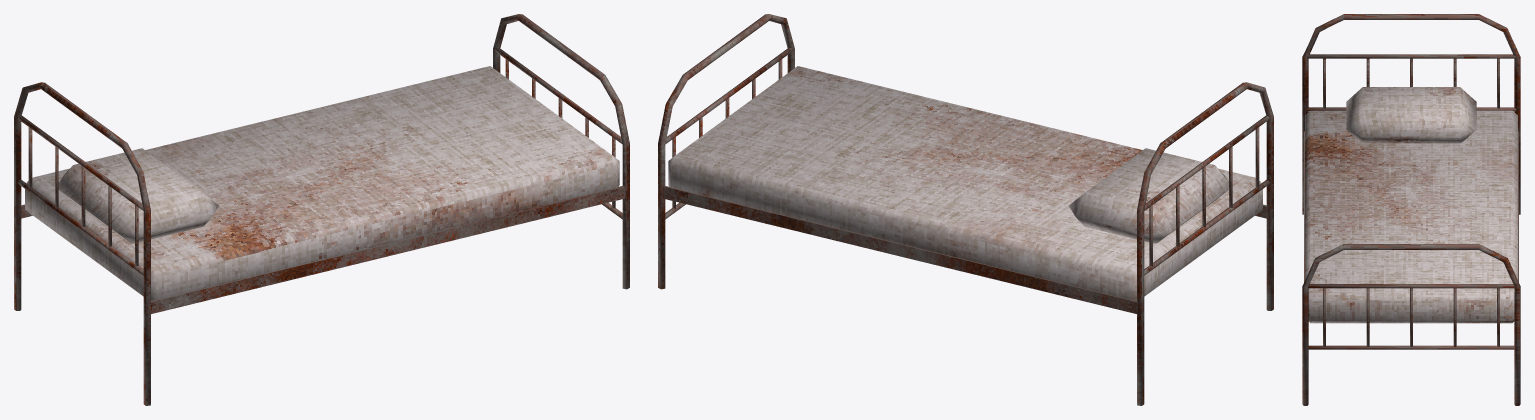
Rendered from pro3.glb.
The picture shows the model from 3 angles, left to right: view 1: azimuth 30°, elevation 25°; view 2: azimuth 150°, elevation 25°; view 3: azimuth 270°, elevation 25°; orthographic projection. The views are drawn at different scales.
Visible parts, largest first — view 1: Cube; view 2: Cube; view 3: Cube.
Boxes of the visible parts, x1,y1,x2,y2 form: Cube: [14, 14, 629, 405]; Cube: [658, 14, 1273, 405]; Cube: [1302, 14, 1520, 405].
Bounding box in the file's own units: 2.1 × 1.01 × 1.
2 materials, 2 textured.
